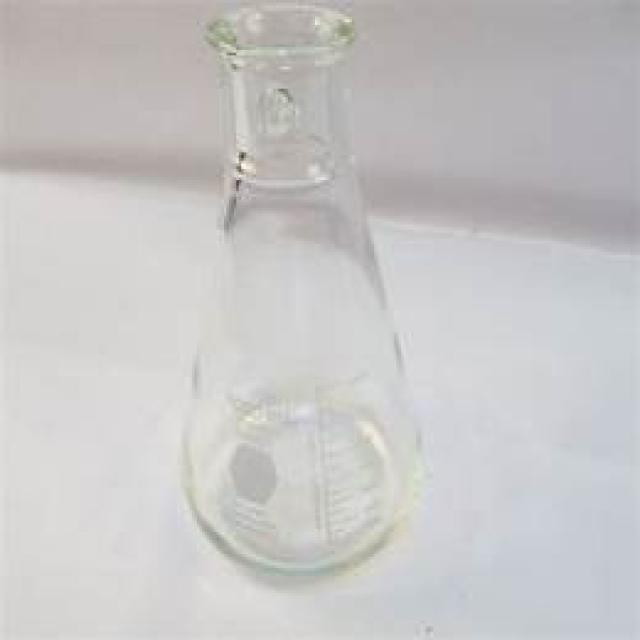Titrarion: (175, 5, 423, 575)
